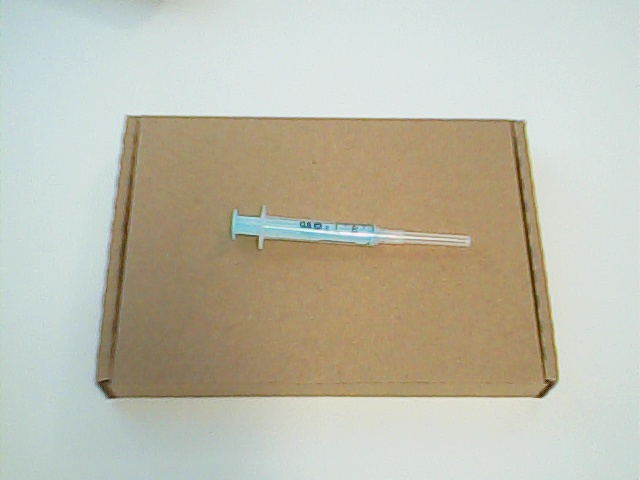syringe: (223, 204, 475, 256)
